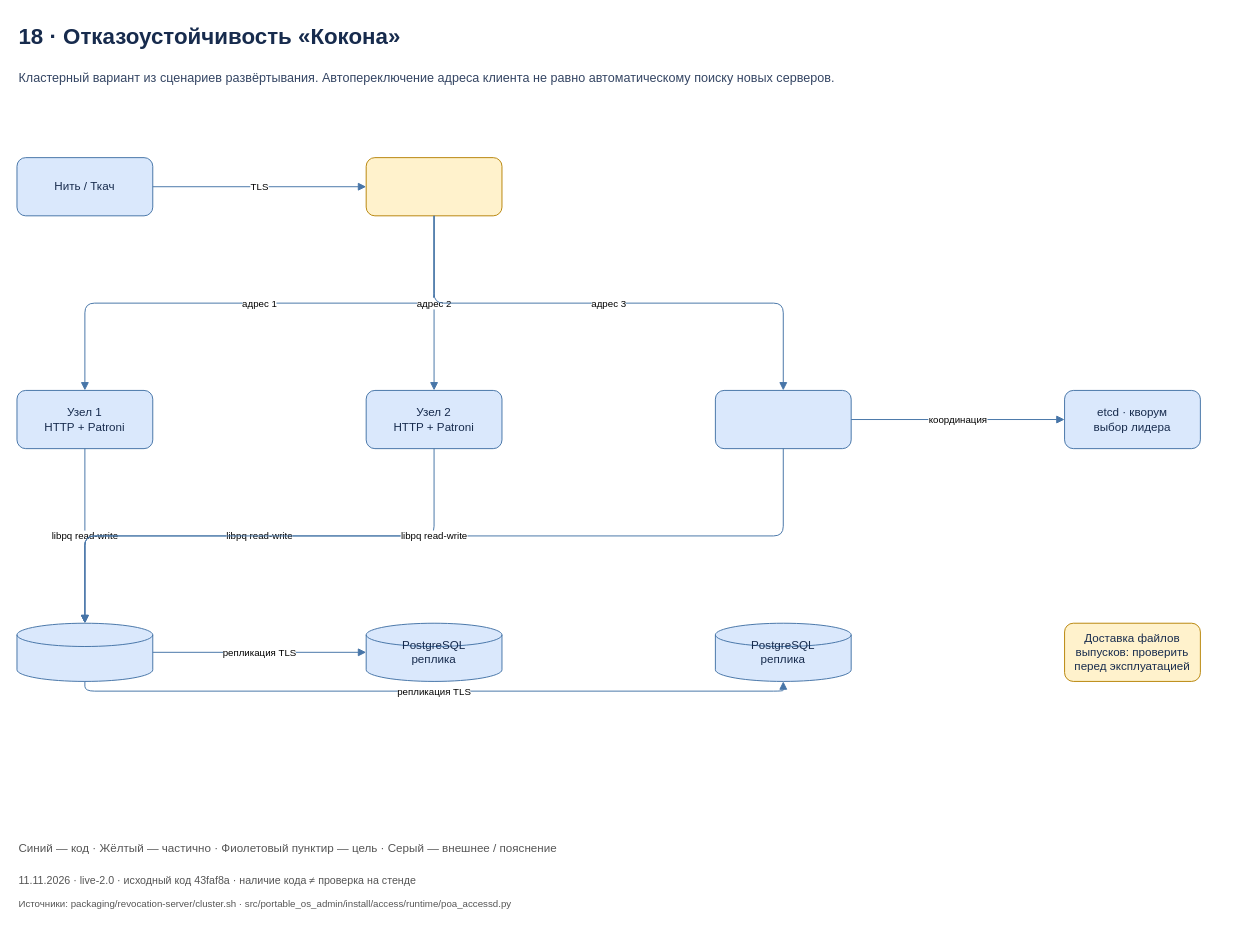
Some shapes in this 1237 by 945 pixel diagram are drawn without their labels. Each missing label, with the box of its shape:
PostgreSQL текущий лидер: (16, 622, 153, 681)
Карточка сервера доверенные адреса: (365, 157, 502, 216)
Узел 3 HTTP + Patroni: (714, 389, 851, 449)
